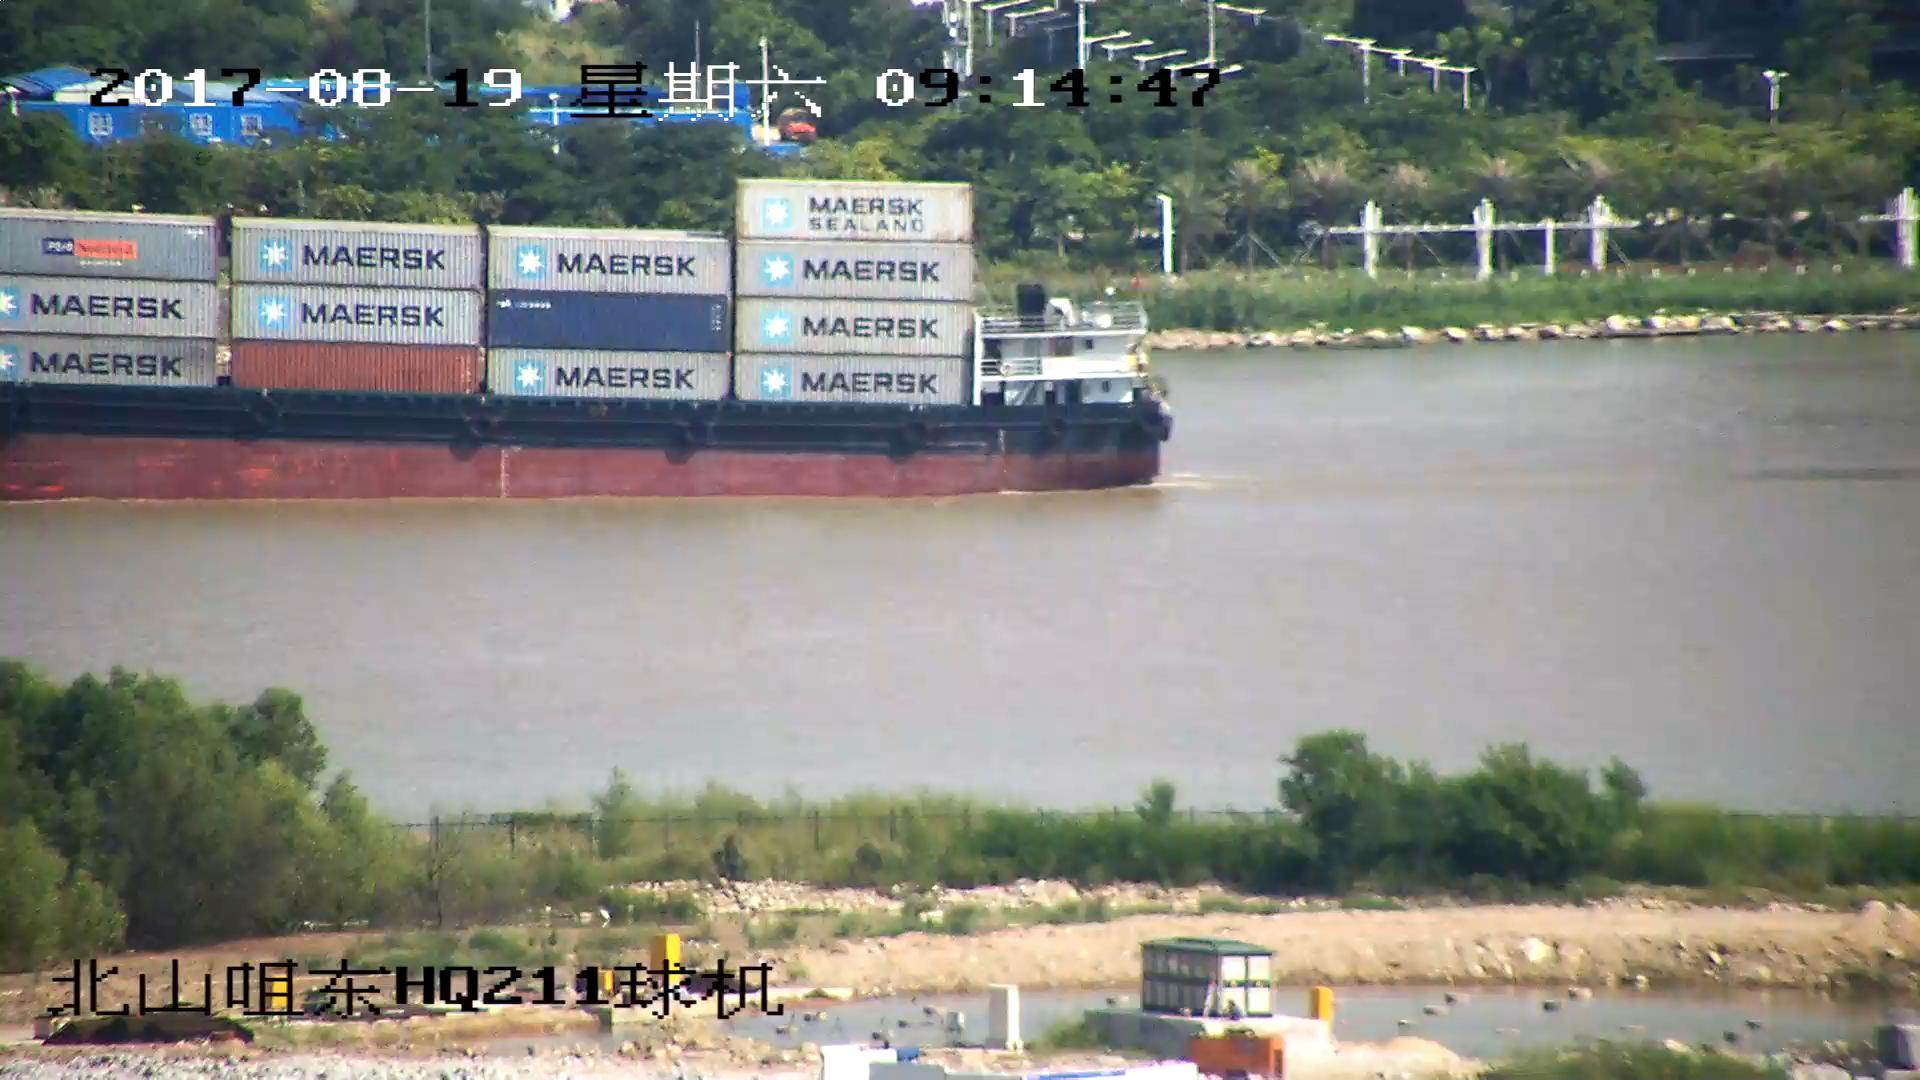Ship: (3, 175, 1166, 500)
